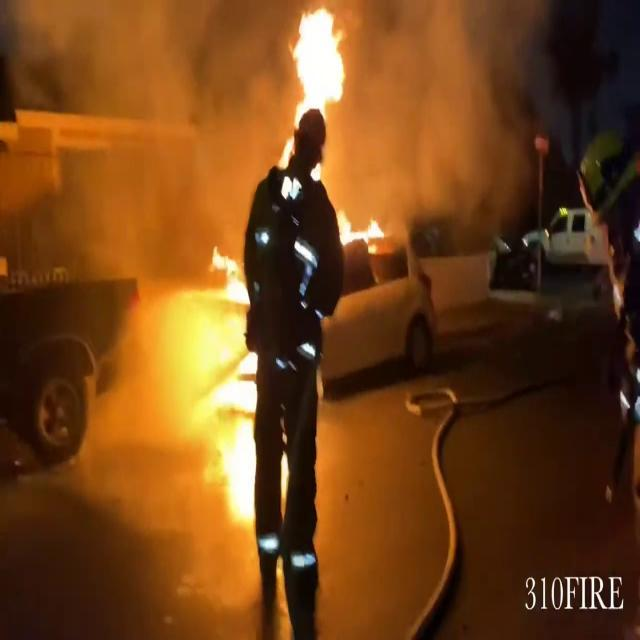Fire: (184, 240, 270, 534), (281, 2, 353, 130), (336, 202, 390, 252)
Smoke: (8, 1, 288, 246), (328, 0, 564, 229)
